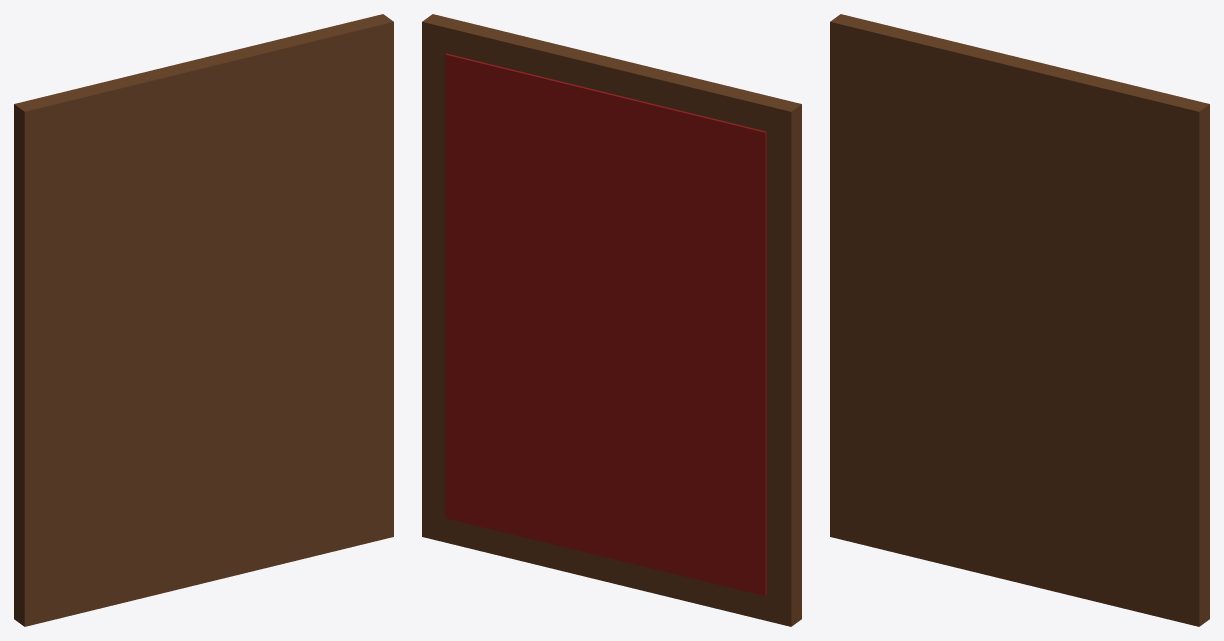
Rendered from home.art.picture_medium.glb.
3 renders of one model, left to right at view 1: azimuth 30°, elevation 25°; view 2: azimuth 150°, elevation 25°; view 3: azimuth 330°, elevation 25°, orthographic.
Parts seen in each view (by area): view 1: main__hardwood; view 2: main__fabric_red, main__hardwood; view 3: main__hardwood.
Part boxes in pixels (x1,y1,x2,y2): main__hardwood: (14,14,393,626); main__fabric_red: (445,53,766,595); main__hardwood: (422,14,801,626); main__hardwood: (830,14,1209,626).
Bounding box in the file's own units: 0.6 × 0.8 × 0.034.
